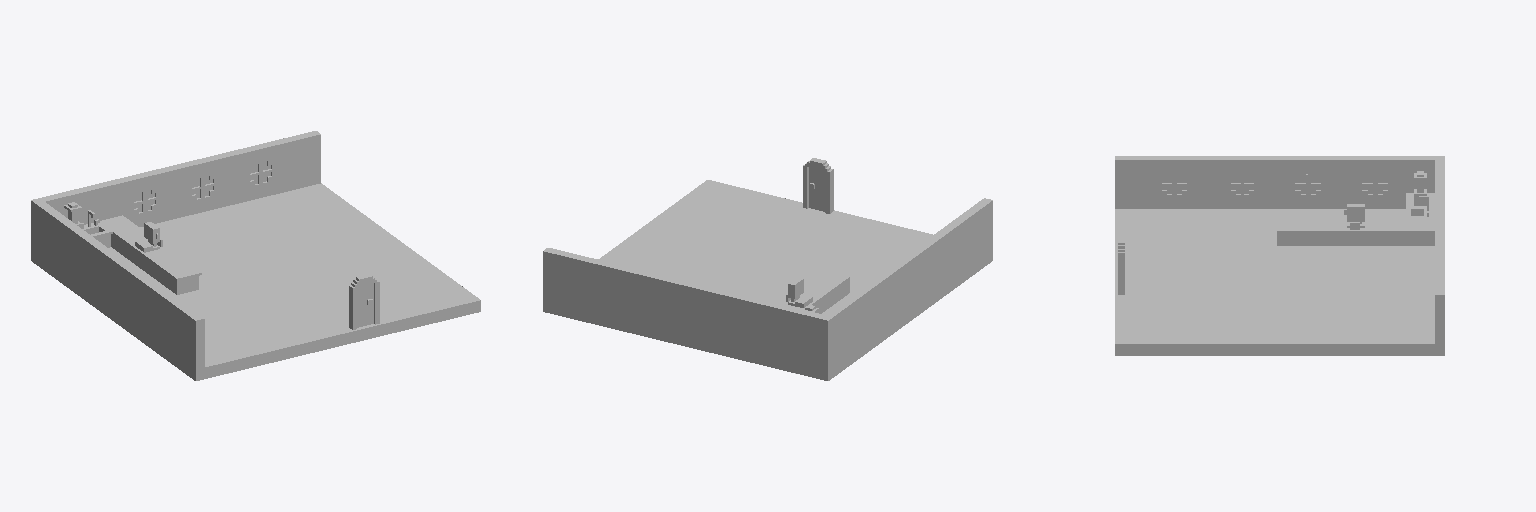
The model's file is restaurant_mood.obj.
3 views of the same model, side by side, from view 1: azimuth 30°, elevation 25°; view 2: azimuth 150°, elevation 25°; view 3: azimuth 270°, elevation 25° (orthographic).
Visible parts, largest first — view 1: restaurant example_3_mood; view 2: restaurant example_3_mood; view 3: restaurant example_3_mood.
Boxes of the visible parts, x1=… form: restaurant example_3_mood: x1=31, y1=131, x2=480, y2=380; restaurant example_3_mood: x1=543, y1=158, x2=992, y2=380; restaurant example_3_mood: x1=1115, y1=156, x2=1444, y2=355.
Size of the model in its own units: 128 by 26 by 128.